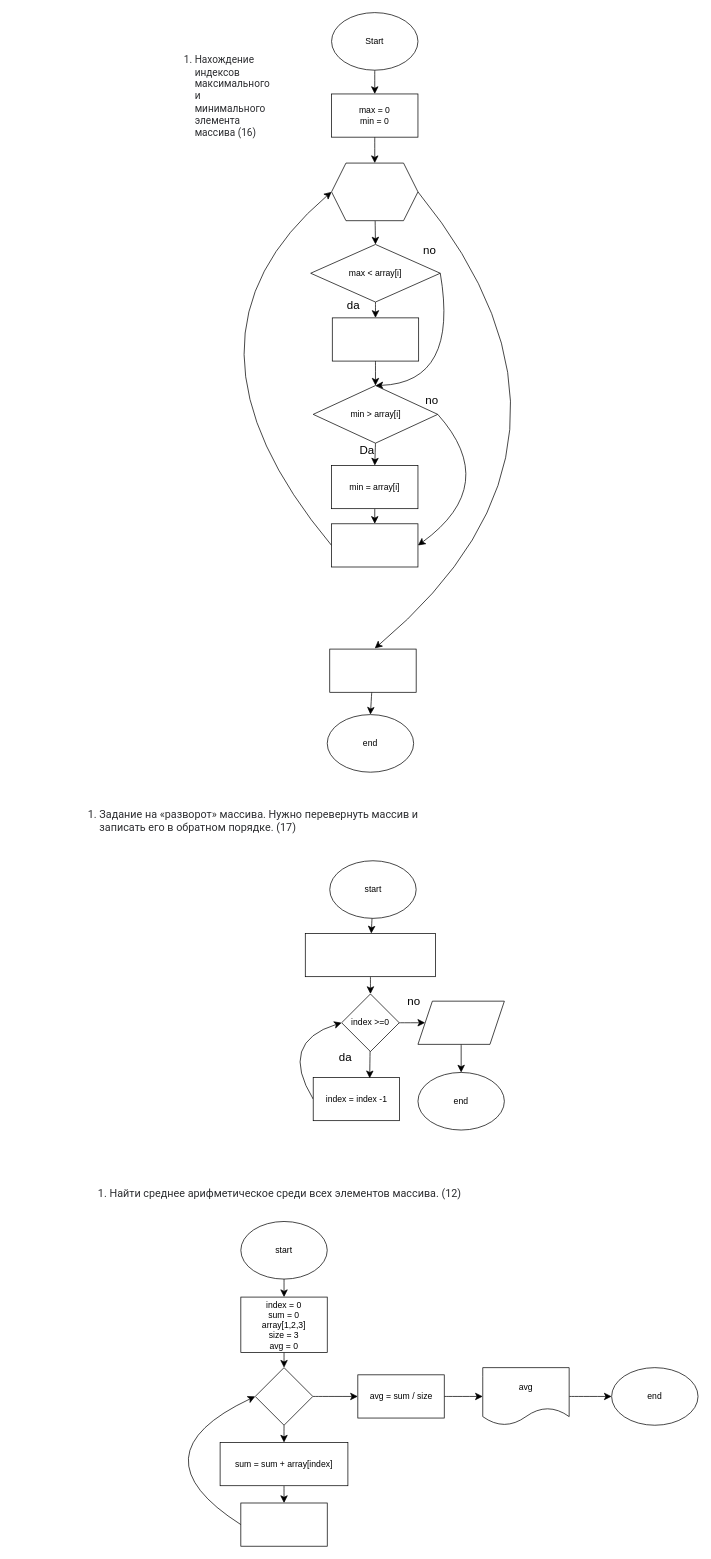
Image size: 711x1559. Some labels were removed from this diagram. Here are the shapes that lost their labels. From the top down, the centre of each, then its label:
(374,191): array = 1 , 10 , 9 i = 0
(375,339): max = array[i]
(374,545): i++
(372,670): max min
(370,955): array = [ 1, 4 , 2 , 14 , 5 ,6 ] size = 6 index = size - 1
(460,1022): array[]
(284,1396): index < size
(283,1524): index = index - 1
